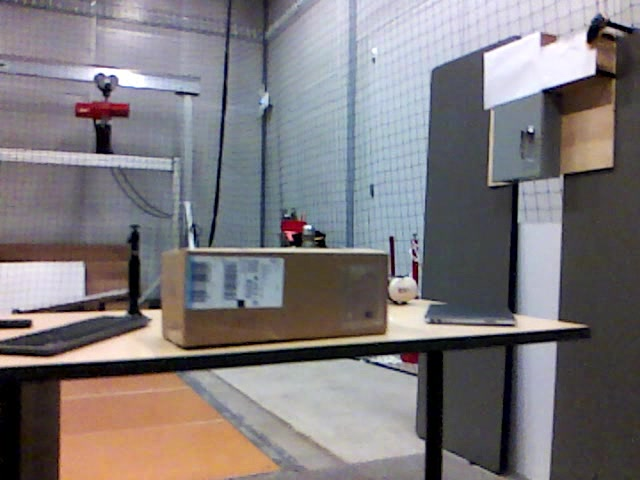box: (159, 246, 386, 347)
